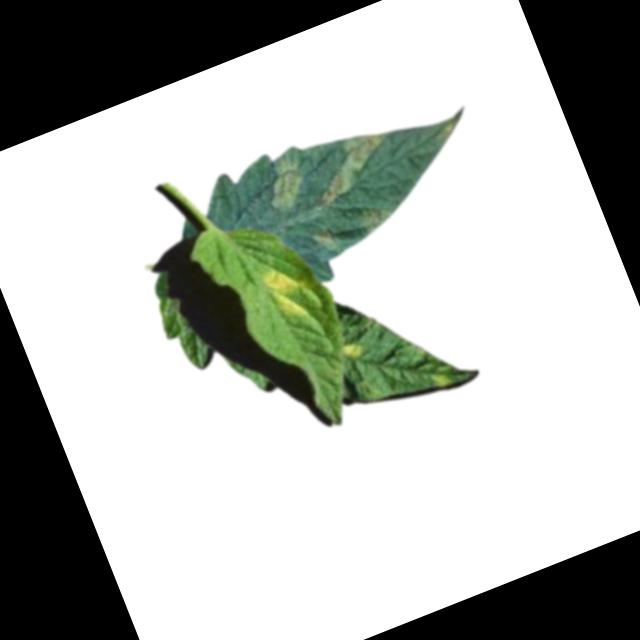Leaf_Mold: (300, 123, 407, 212), (255, 149, 313, 216), (258, 265, 308, 326), (355, 198, 399, 240), (308, 223, 337, 251), (337, 337, 366, 363)
